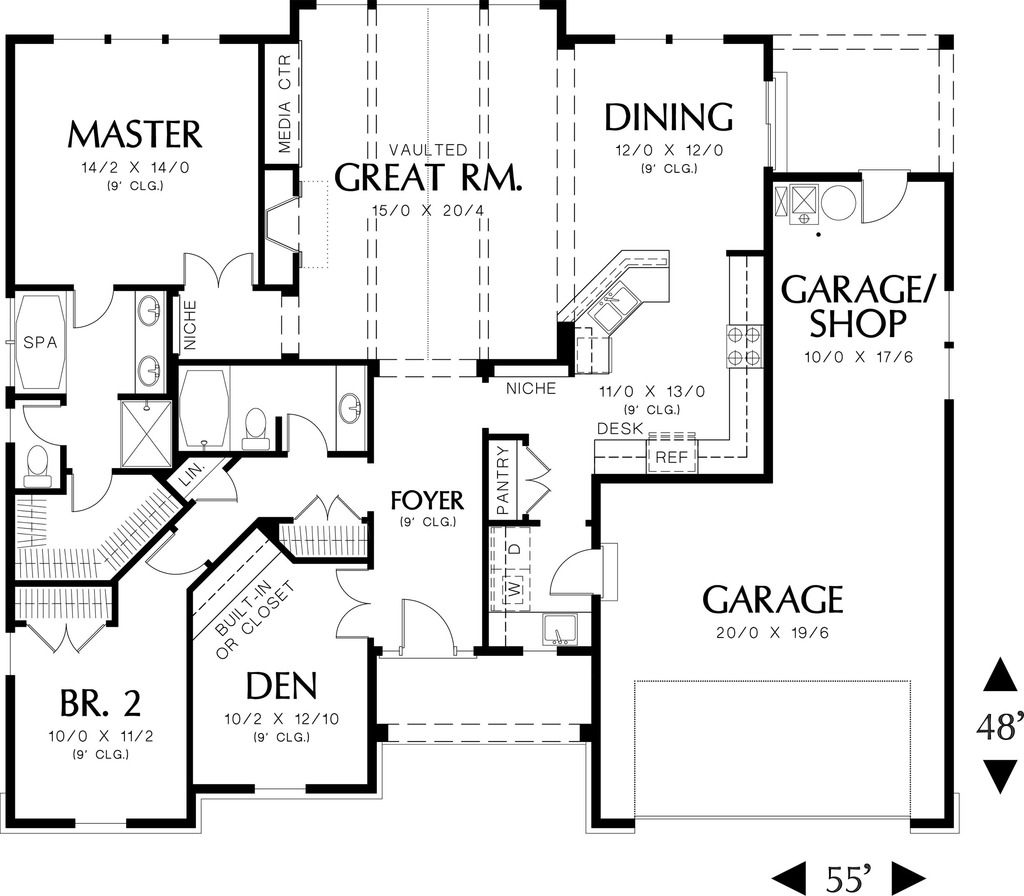door: (379, 594, 468, 660), (540, 535, 623, 599), (854, 160, 926, 230), (143, 519, 214, 583), (21, 614, 116, 655), (334, 560, 378, 635), (515, 442, 557, 520), (275, 408, 334, 459), (178, 253, 258, 289), (191, 464, 248, 512), (286, 496, 364, 527), (61, 466, 111, 513), (68, 283, 115, 330), (18, 406, 71, 444)
large_sink: (16, 445, 59, 485), (236, 402, 266, 451)
sink: (532, 603, 590, 651)
small_sink: (122, 288, 169, 399), (323, 362, 369, 458)
tub: (4, 289, 71, 399)
twin_sink: (576, 281, 657, 339)
window: (47, 31, 219, 49), (611, 31, 730, 48), (248, 777, 322, 801), (71, 810, 130, 827)
